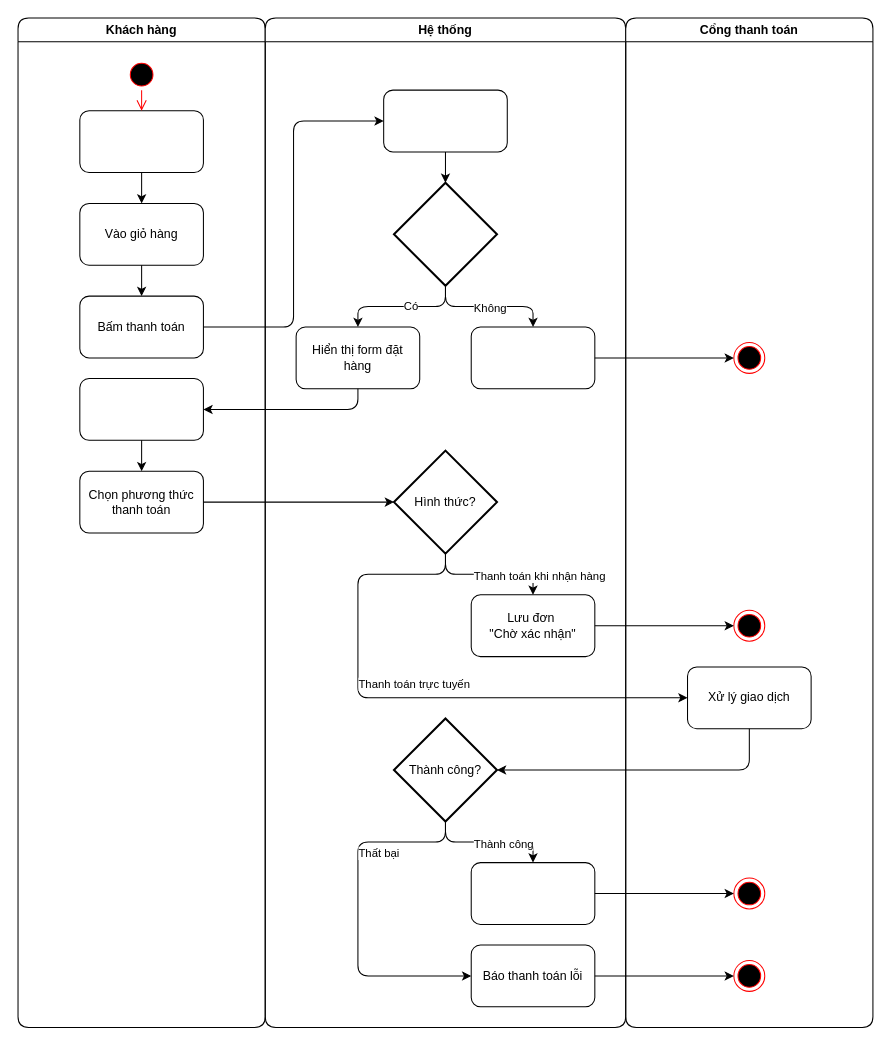
This 891x1045 diagram has some shape labels left out. Here are the shapes that lost their labels. From the top down, the centre of each, then its label:
pixel 445 120: Kiểm tra tồn kho
pixel 141 141: Chọn sách
pixel 444 233: Số lượng đủ?
pixel 532 357: Báo hết hàng
pixel 141 408: Nhập địa chỉ
pixel 532 893: Lưu đơn "Đã thanh toán"
